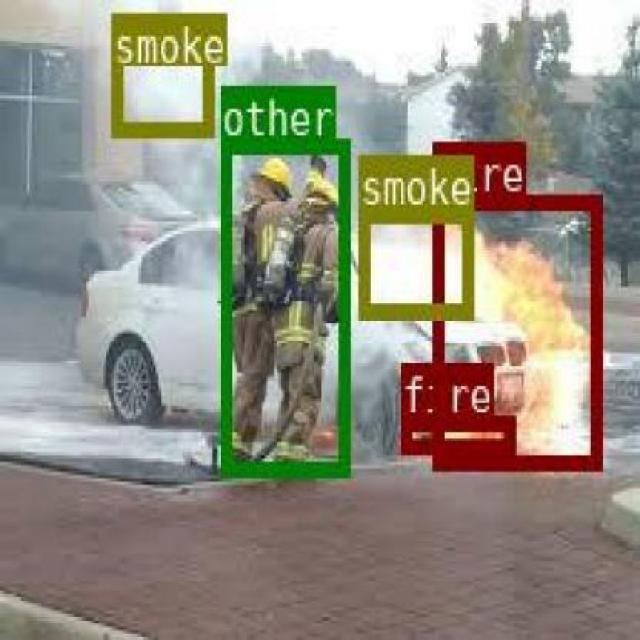Fire: (430, 194, 599, 466), (398, 414, 512, 452)
Smoke: (110, 11, 212, 134), (358, 206, 472, 316)
